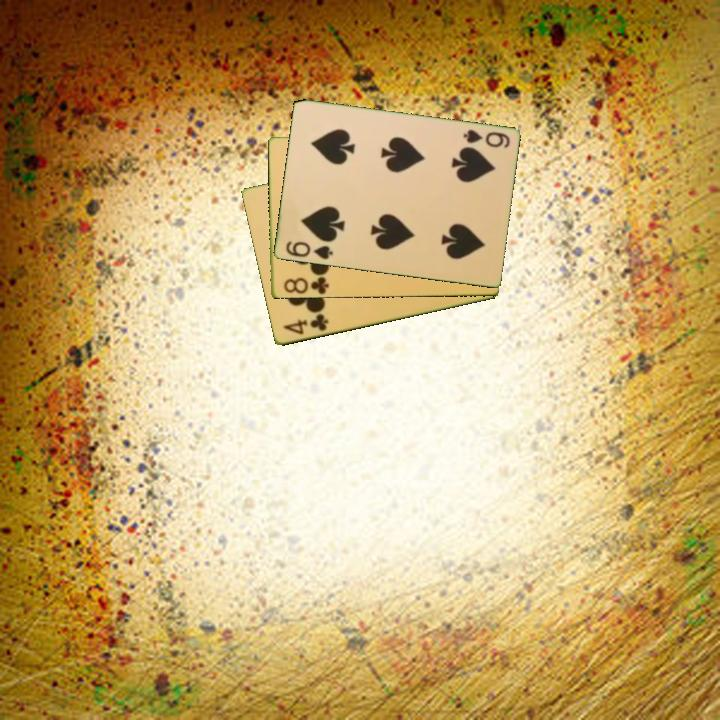4c: (279, 310, 331, 338)
6s: (459, 126, 512, 151), (282, 238, 335, 262)
8c: (280, 271, 331, 297)
